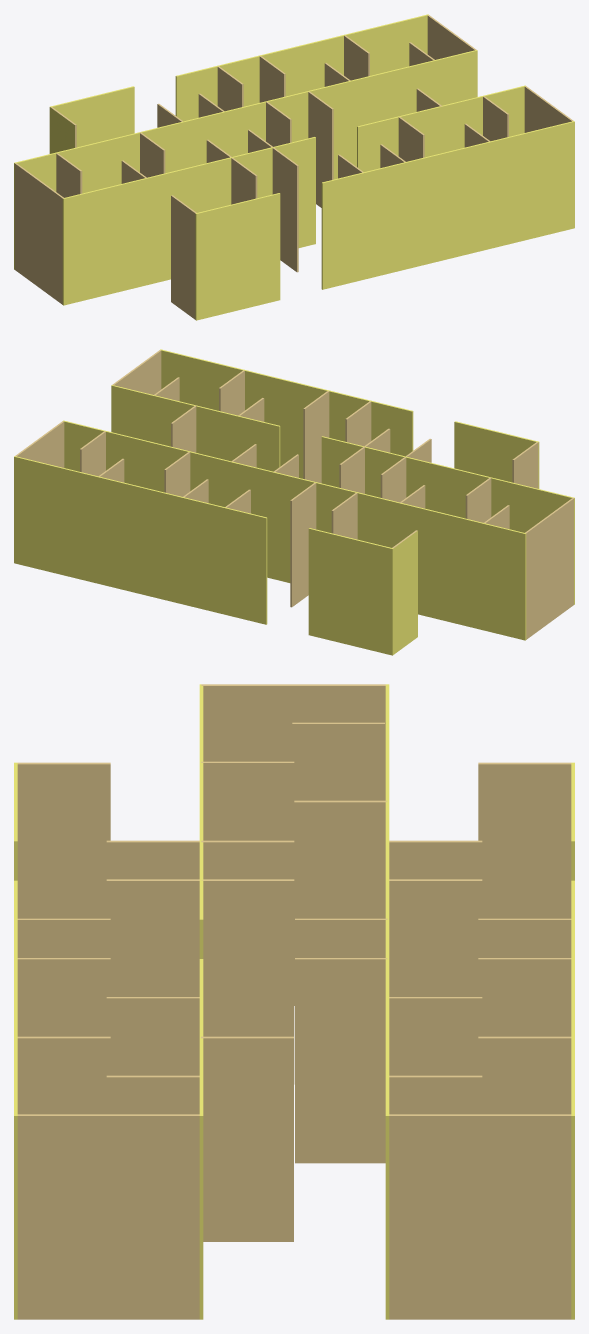
The model's file is MazeWood.dae.
3 views of the same model, one above another, from view 1: azimuth 30°, elevation 25°; view 2: azimuth 150°, elevation 25°; view 3: azimuth 270°, elevation 25° (orthographic). The views are drawn at different scales.
Parts seen in each view (by area): view 1: Cube.011, Cube.005, Cube.001; view 2: Cube.011, Cube.005, Cube.001; view 3: Cube.005, Cube.011.
Boxes of the visible parts, x1,y1,x2,y2 form: Cube.011: (14,14,574,320); Cube.005: (15,15,573,319); Cube.001: (50,108,74,153); Cube.011: (14,349,574,655); Cube.005: (15,350,573,639); Cube.001: (393,531,417,654); Cube.005: (17,684,571,1319); Cube.011: (14,684,574,1319).
Bounding box in the file's own units: 5.5 × 3.02 × 1.21.
